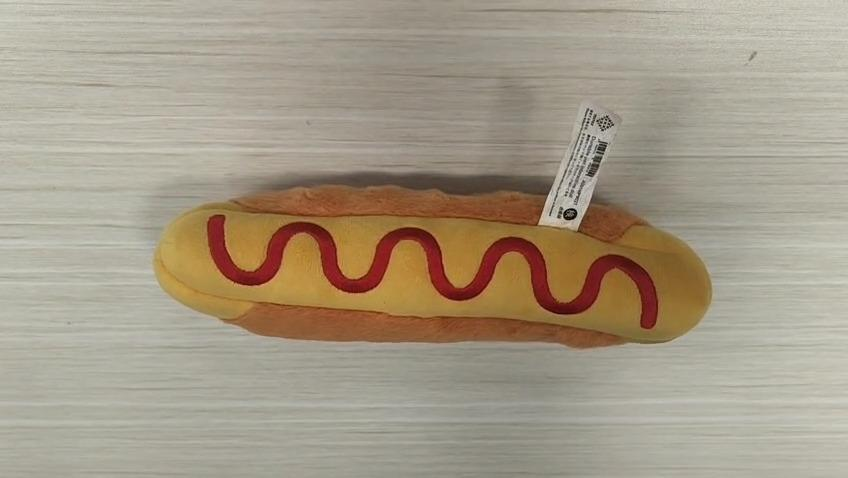hotdog: (152, 182, 713, 348)
